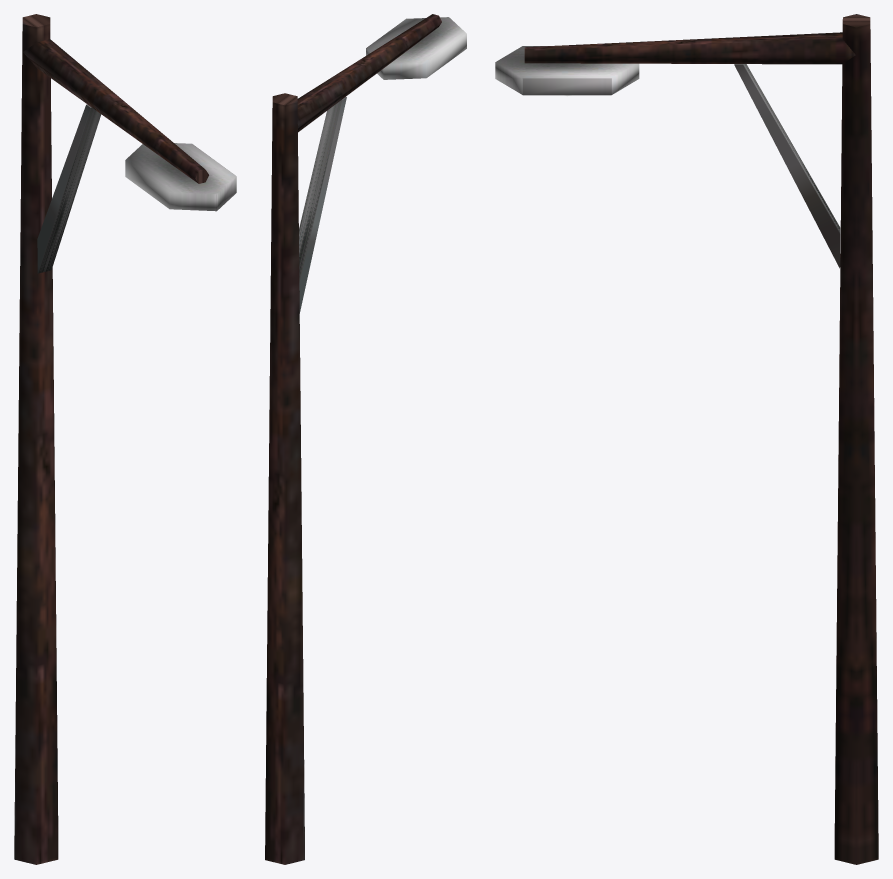
Rendered from LampPostOff.glb.
3 views of the same model, side by side, from view 1: azimuth 30°, elevation 25°; view 2: azimuth 150°, elevation 25°; view 3: azimuth 270°, elevation 25° (orthographic). The views are drawn at different scales.
Parts seen in each view (by area): view 1: LAMPPOSTOFF; view 2: LAMPPOSTOFF; view 3: LAMPPOSTOFF.
Part boxes in pixels (x1=…): LAMPPOSTOFF: x1=14, y1=14, x2=236, y2=864; LAMPPOSTOFF: x1=265, y1=14, x2=466, y2=864; LAMPPOSTOFF: x1=495, y1=14, x2=878, y2=864.
Size of the model in its own units: 0.486 by 5.78 by 2.41.
Materials: 1 (1 with a texture image).
